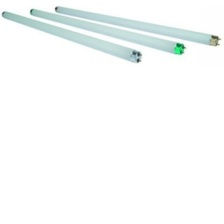light_bulb: (0, 8, 145, 65), (27, 6, 189, 56), (51, 4, 221, 48)
